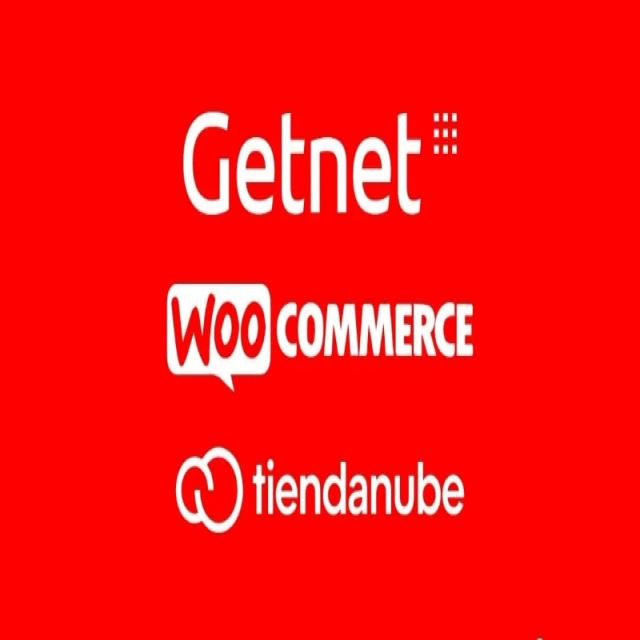getnet: (182, 109, 458, 217)
